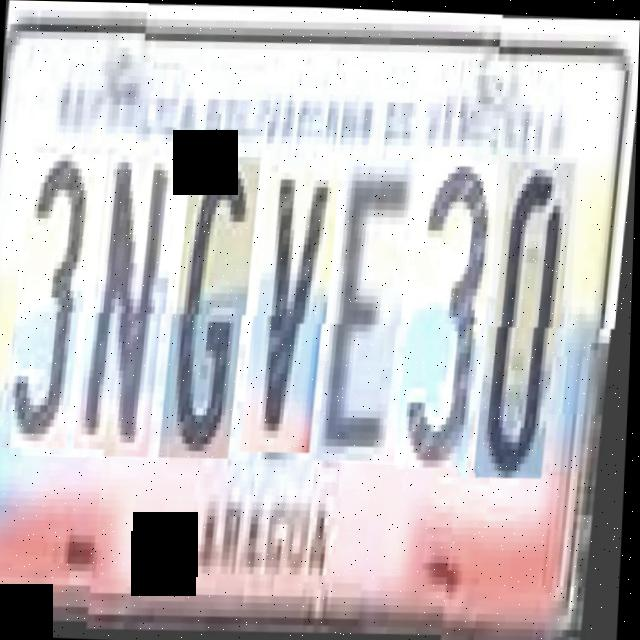0: (487, 153, 579, 473)
3: (406, 159, 504, 471), (13, 151, 103, 457)
E: (327, 156, 421, 463)
G: (170, 155, 264, 460)
N: (85, 153, 183, 459)
V: (251, 156, 344, 454)
